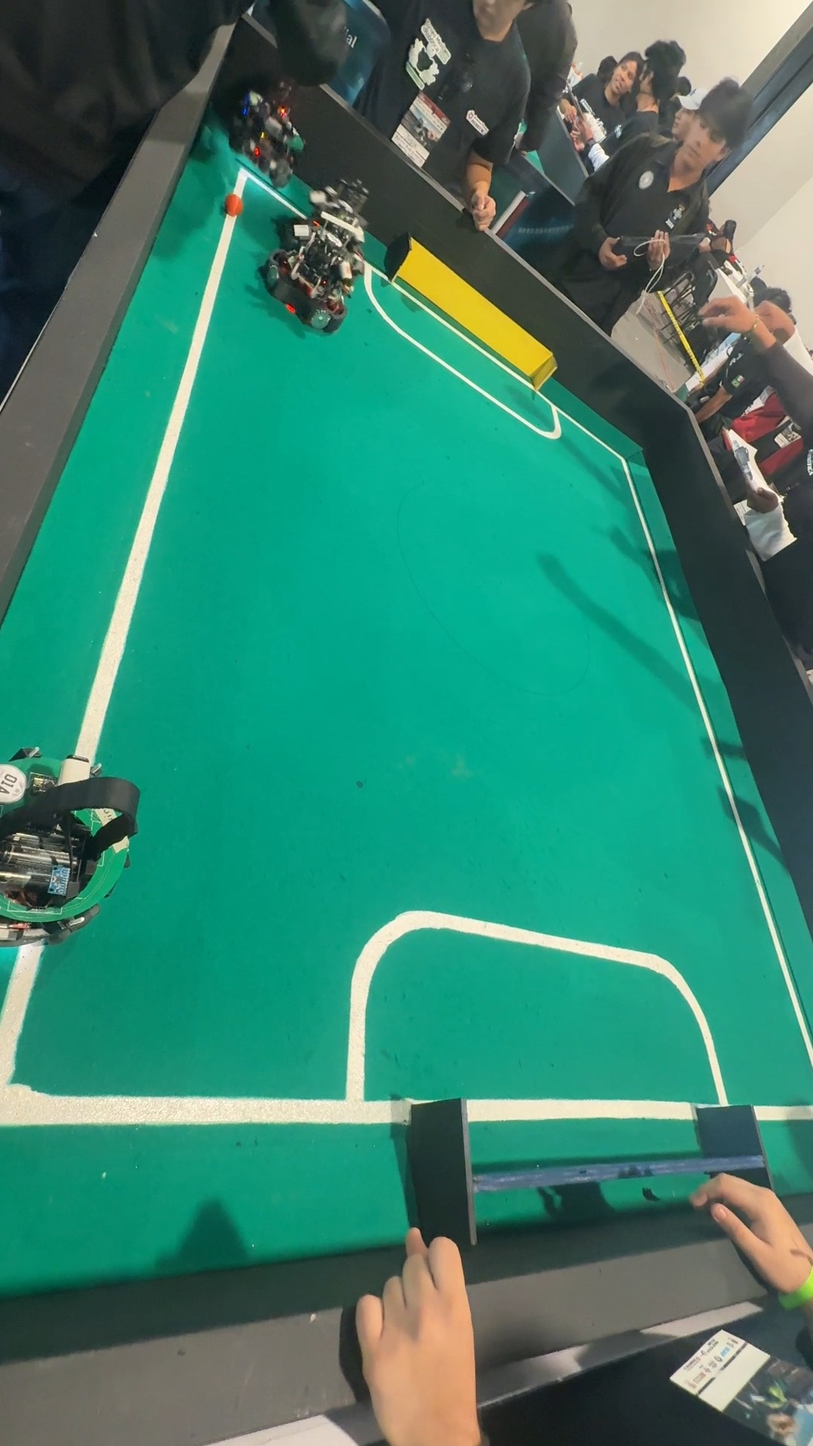Robot: (0, 717, 166, 964), (262, 170, 379, 344), (232, 62, 311, 185)
pelota: (225, 189, 244, 217)
